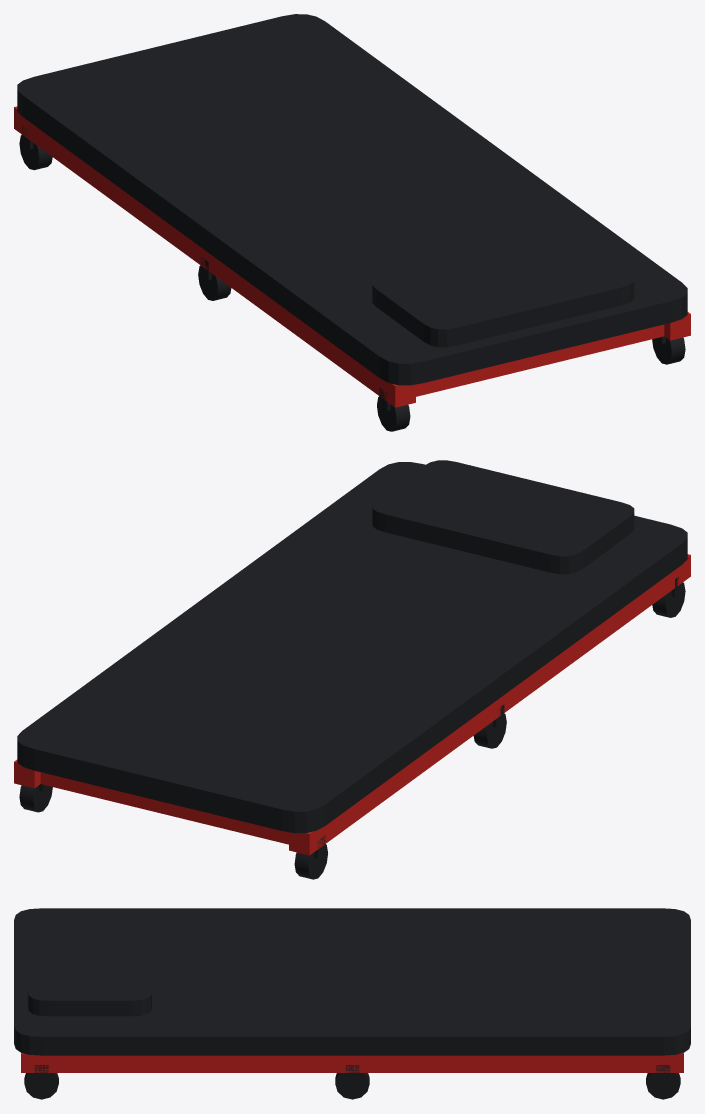
Rendered from toolkit--creeper.glb.
3 renders of one model, top to bottom at view 1: azimuth 30°, elevation 25°; view 2: azimuth 150°, elevation 25°; view 3: azimuth 270°, elevation 25°, orthographic. The views are drawn at different scales.
Parts seen in each view (by area): view 1: creeper:shell, casters; view 2: creeper:shell, casters; view 3: creeper:shell, casters.
Boxes of the visible parts, box(x1,y1,x2,y2) form: creeper:shell: box(14, 14, 690, 407); casters: box(19, 126, 685, 431); creeper:shell: box(14, 460, 690, 855); casters: box(19, 576, 685, 879); creeper:shell: box(14, 908, 690, 1072); casters: box(24, 1065, 680, 1099).
Size of the model in its own units: 0.44 by 0.13 by 0.98.
